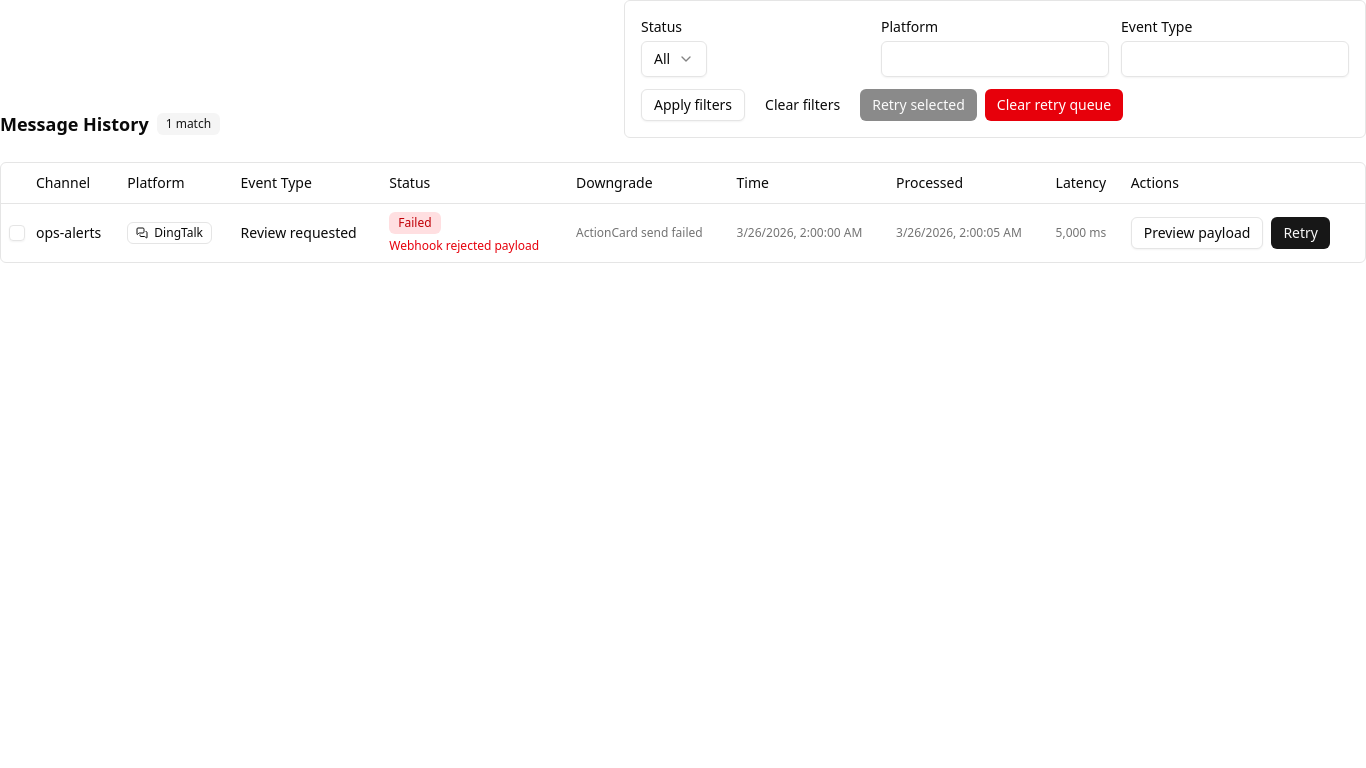
Test: IMMessageHistory › renders downgrade diagnostics, payload preview, and retry
expect the heading "Message History" is shown: met, box [0,110,149,138]
expect the text "Review requested" is shown: met, box [233,203,381,262]
Click the button "Retry" at (1301, 232), box [1271,216,1330,248]
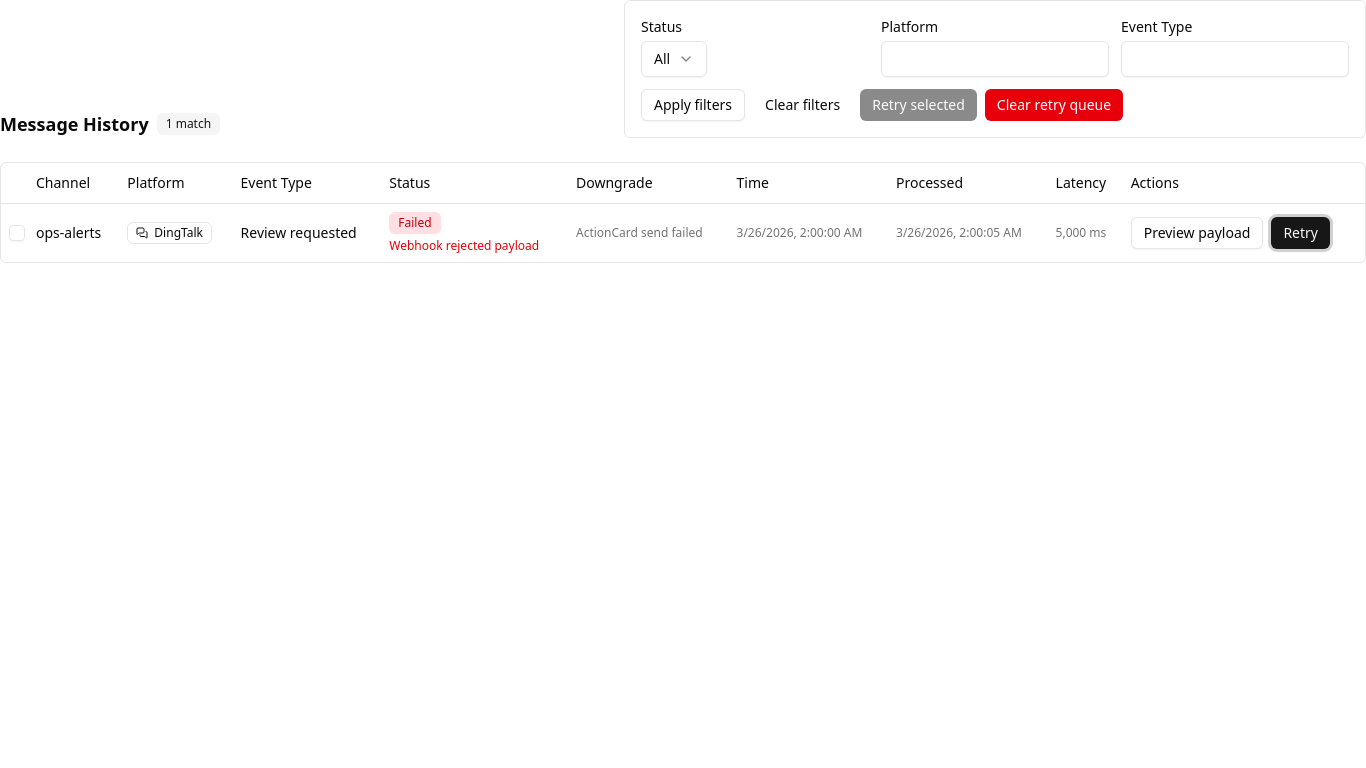
Click the checkbox named "Select delivery-1" at (17, 232), box [9,224,25,240]
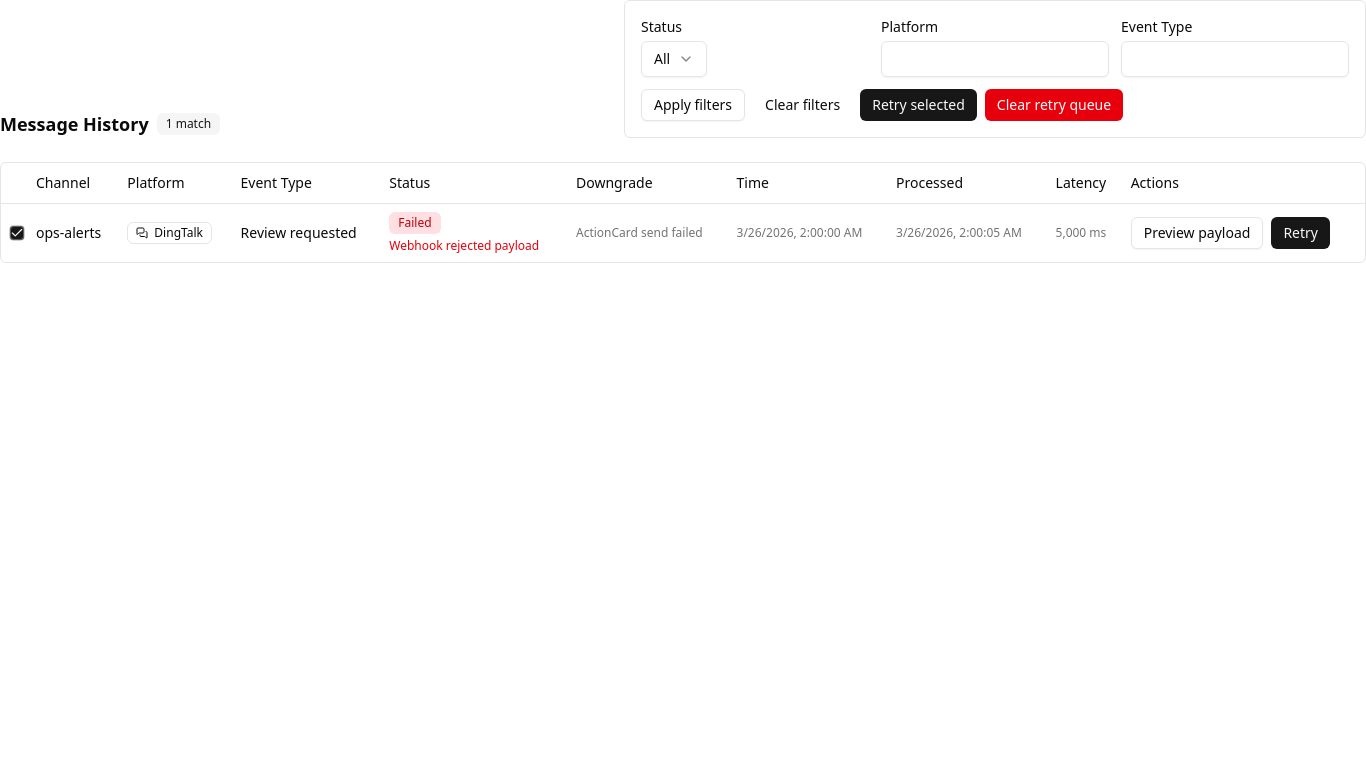
Click the button "Retry selected" at (918, 105), box [860,89,977,121]
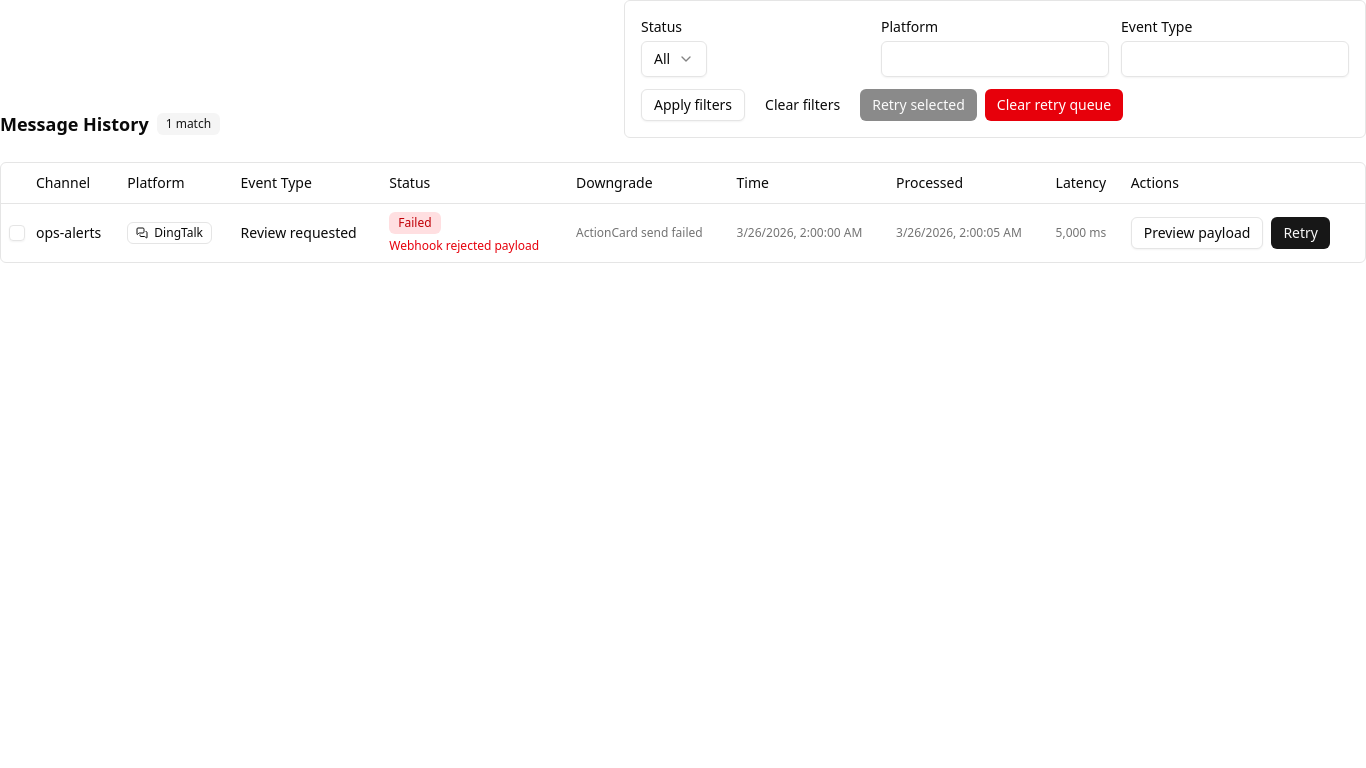
Click the button "Preview payload" at (1197, 232), box [1131,216,1263,248]
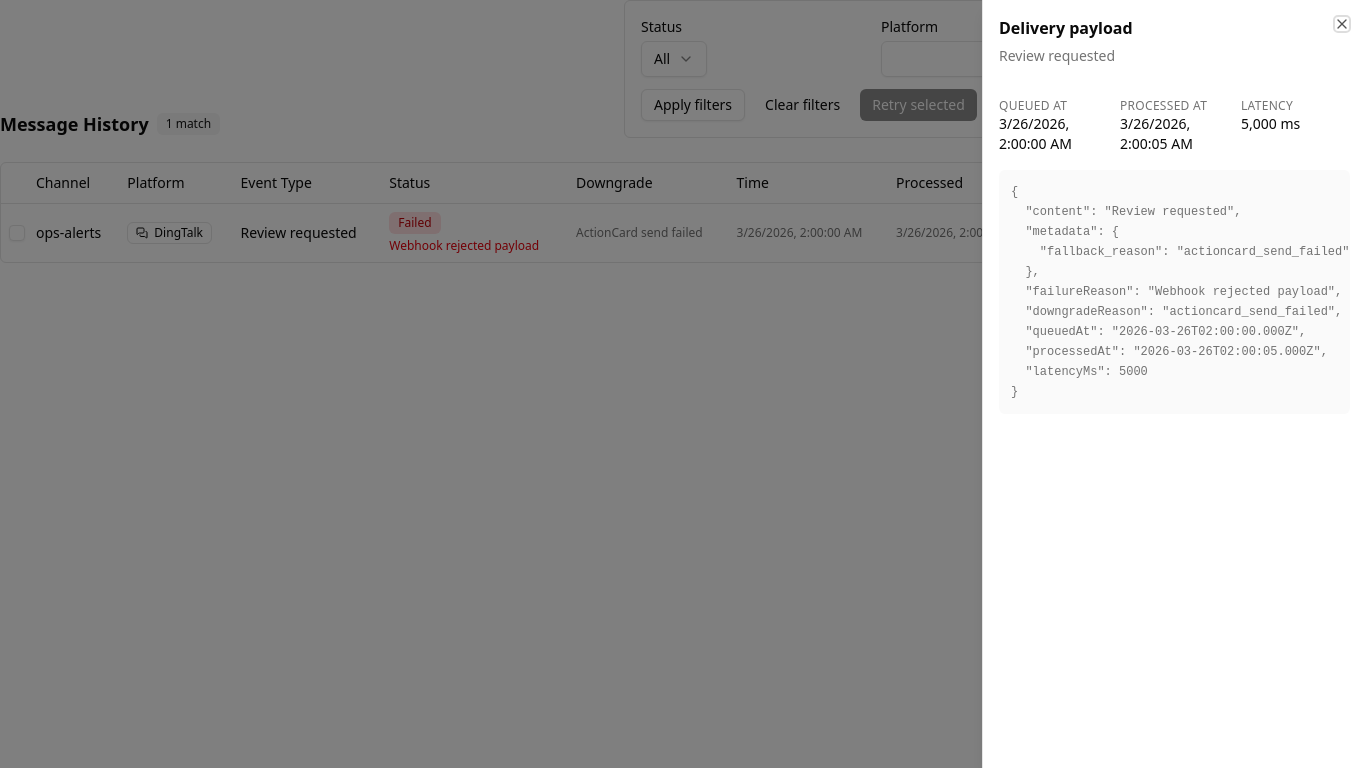
expect the heading "Delivery payload" is shown: met, box [999,17,1133,39]
expect the text "Queued at" is shown: met, box [999,97,1067,114]
expect the text "Processed at" is shown: met, box [1120,97,1207,114]
